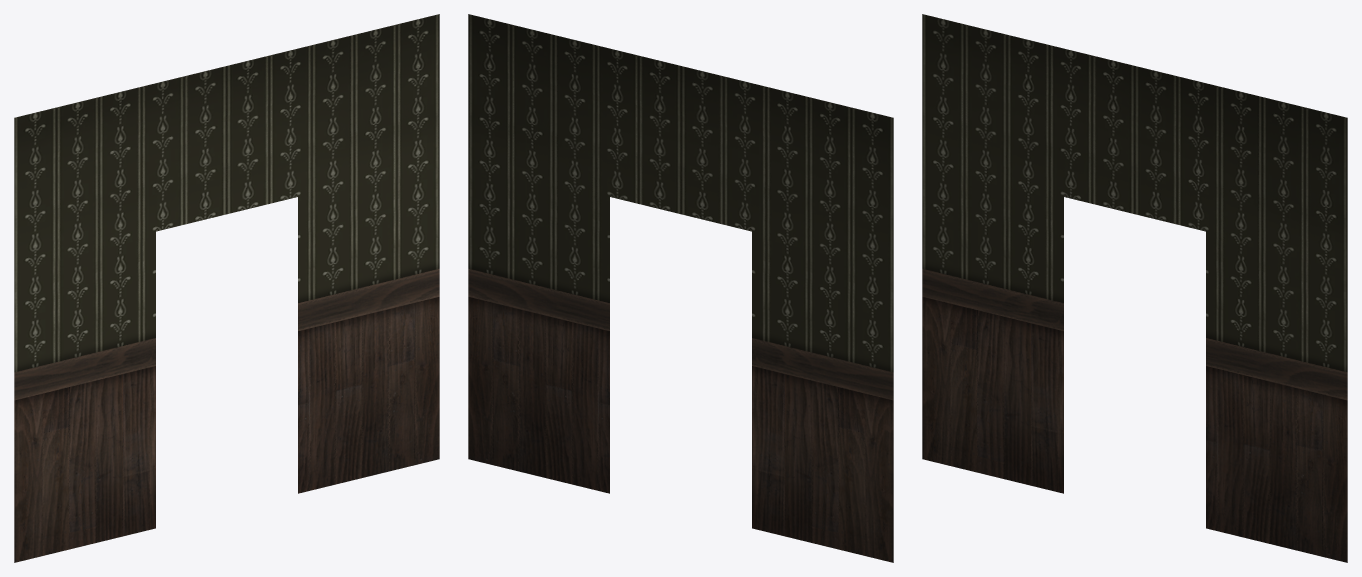
File: Wall.WP_3x3_Door.fbx
3 views of the same model, side by side, from view 1: azimuth 30°, elevation 25°; view 2: azimuth 150°, elevation 25°; view 3: azimuth 330°, elevation 25° (orthographic).
Parts seen in each view (by area): view 1: Wall.WP_3x3_Door; view 2: Wall.WP_3x3_Door; view 3: Wall.WP_3x3_Door.
Boxes of the visible parts, x1=… form: Wall.WP_3x3_Door: x1=14, y1=14, x2=439, y2=562; Wall.WP_3x3_Door: x1=468, y1=14, x2=893, y2=562; Wall.WP_3x3_Door: x1=922, y1=14, x2=1347, y2=562.
Size of the model in its own units: 300 by 300 by 4.01e-05.
